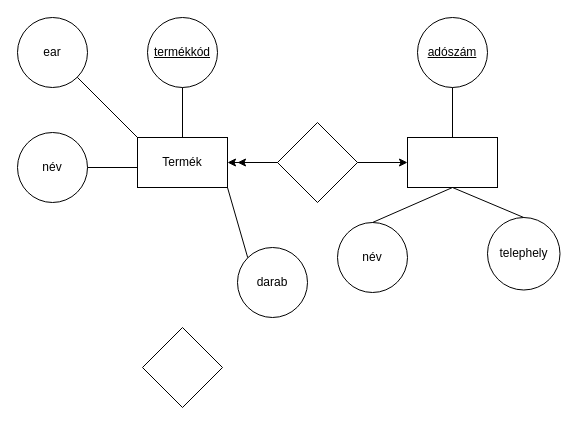
Image size: 578x425. Some labels were removed from this diagram. The centre of each missing label's shape, as x and y in pixels:
Gyártó: the point at 452,162
T_GY: the point at 317,162
összeállítás: the point at 182,367
